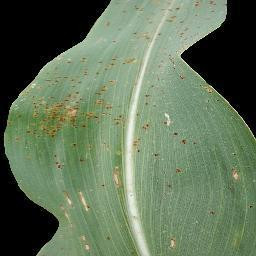Corn_Common_Rust: (9, 72, 201, 168), (32, 2, 232, 73), (48, 183, 94, 225), (163, 163, 197, 198), (204, 79, 234, 117), (107, 168, 129, 194), (202, 205, 230, 225), (227, 162, 245, 189), (81, 232, 99, 255), (164, 236, 183, 256), (233, 144, 247, 168), (106, 232, 118, 254), (243, 200, 256, 215)
